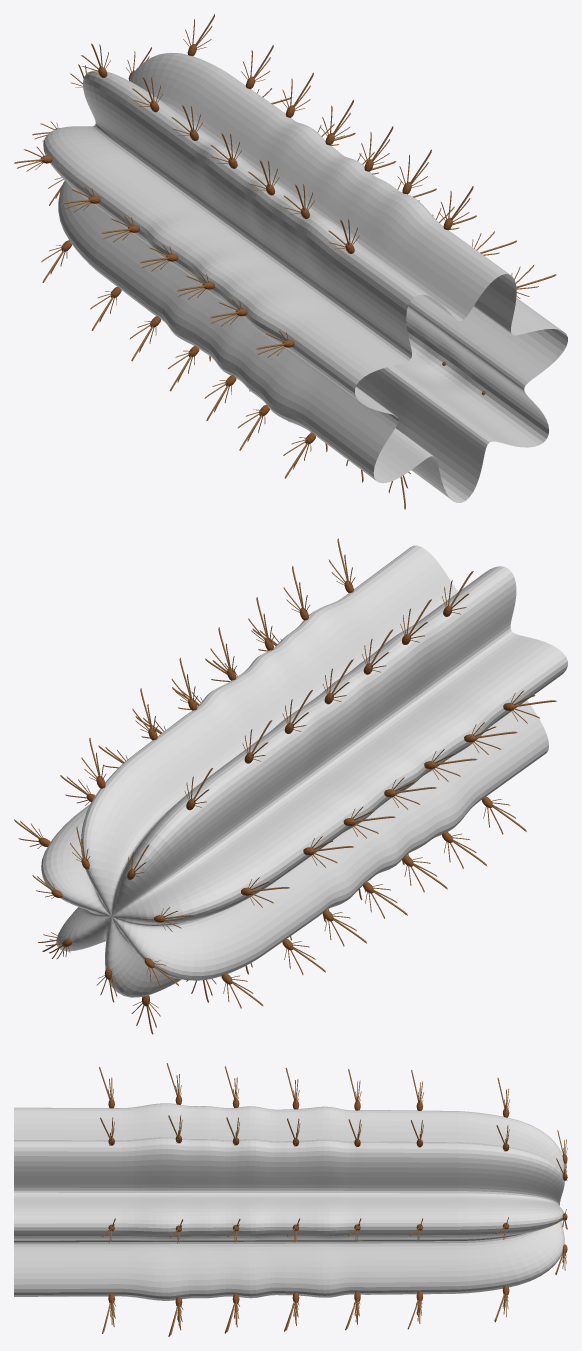
The model's file is frame-145.glb.
3 renders of one model, top to bottom at view 1: azimuth 30°, elevation 25°; view 2: azimuth 150°, elevation 25°; view 3: azimuth 270°, elevation 25°, orthographic. The views are drawn at different scales.
Visible parts, largest first — view 1: WACHUMA_Pachanoi_Frame_145; view 2: WACHUMA_Pachanoi_Frame_145; view 3: WACHUMA_Pachanoi_Frame_145.
Part boxes in pixels (x1,y1,x2,y2): WACHUMA_Pachanoi_Frame_145: [14, 14, 567, 509]; WACHUMA_Pachanoi_Frame_145: [14, 538, 567, 1034]; WACHUMA_Pachanoi_Frame_145: [14, 1063, 567, 1336].
Bounding box in the file's own units: 1.24 × 1.21 × 2.45.
